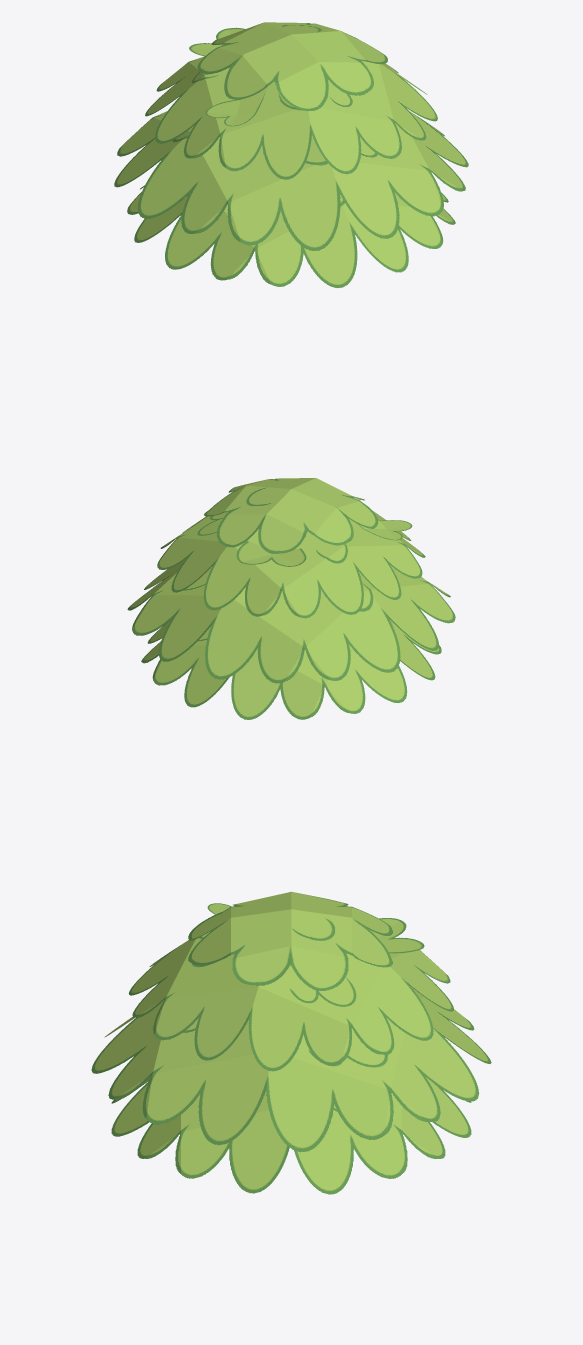
Rendered from George2.fbx.
The picture shows the model from 3 angles, top to bottom: view 1: azimuth 30°, elevation 25°; view 2: azimuth 150°, elevation 25°; view 3: azimuth 270°, elevation 25°; orthographic projection. The views are drawn at different scales.
Parts seen in each view (by area): view 1: Bush (L).002, Bush (S).001, Leaf 2 (seamless).002; view 2: Bush (L).002, Bush (S).001, Leaf 2 (seamless).001, Leaf 2 (seamless).002; view 3: Bush (L).002, Bush (S).001, Leaf 2 (seamless).001.
Part boxes in pixels (left/top/right/bottom): Bush (L).002: left=114, top=56, right=468, bottom=287; Bush (S).001: left=197, top=22, right=387, bottom=111; Leaf 2 (seamless).002: left=205, top=87, right=266, bottom=126; Bush (L).002: left=127, top=511, right=455, bottom=719; Bush (S).001: left=204, top=478, right=378, bottom=553; Leaf 2 (seamless).001: left=236, top=541, right=306, bottom=566; Leaf 2 (seamless).002: left=358, top=520, right=412, bottom=540; Bush (L).002: left=91, top=931, right=491, bottom=1194; Bush (S).001: left=188, top=891, right=392, bottom=990; Leaf 2 (seamless).001: left=370, top=918, right=424, bottom=953.
Size of the model in its own units: 73.66 by 48.03 by 73.66.
